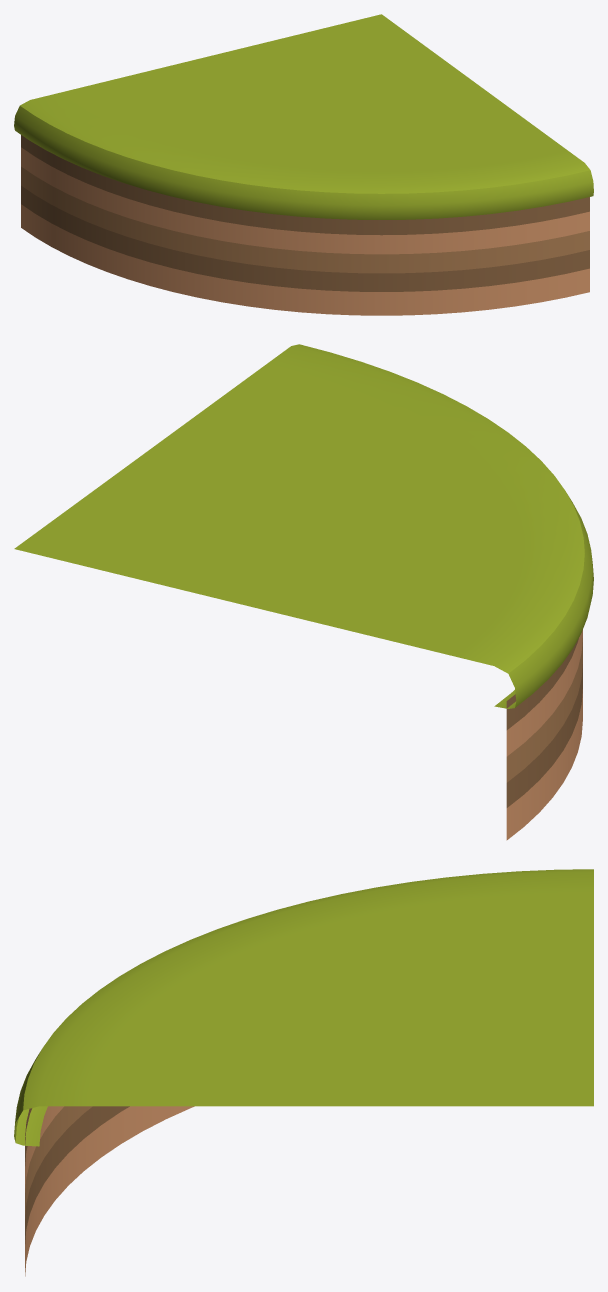
Rendered from platform_grass_corner_round3_tall.gltf.
3 renders of one model, top to bottom at view 1: azimuth 30°, elevation 25°; view 2: azimuth 150°, elevation 25°; view 3: azimuth 270°, elevation 25°, orthographic. The views are drawn at different scales.
Visible parts, largest first — view 1: Cube_Grass_Corner_Round3_Tall; view 2: Cube_Grass_Corner_Round3_Tall; view 3: Cube_Grass_Corner_Round3_Tall.
Part boxes in pixels (left/top/right/bottom): Cube_Grass_Corner_Round3_Tall: left=14, top=14, right=593, bottom=315; Cube_Grass_Corner_Round3_Tall: left=14, top=344, right=593, bottom=840; Cube_Grass_Corner_Round3_Tall: left=14, top=869, right=593, bottom=1276.
Size of the model in its own units: 6.12 by 2 by 6.12.
